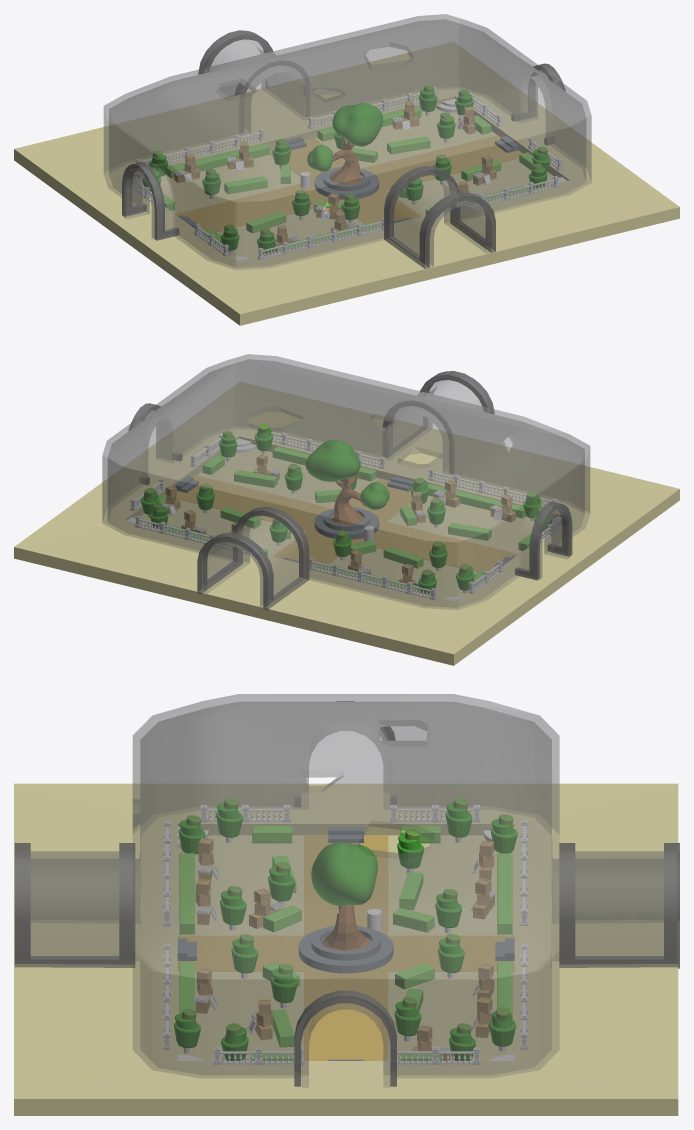
The model's file is Map Draft buat demo again.fbx.
3 views of the same model, one above another, from view 1: azimuth 30°, elevation 25°; view 2: azimuth 150°, elevation 25°; view 3: azimuth 270°, elevation 25° (orthographic). The views are drawn at different scales.
Parts seen in each view (by area): view 1: Cube.052, Plane.012, Plane, Cube.055, Cube.054, Cube.056, Sphere.001, Cylinder, Plane.011, Cube.057, Cube.004, Sphere (+4 smaller); view 2: Cube.052, Plane.012, Plane, Cube.054, Cube.055, Sphere.001, Cube.056, Cylinder, Cube.004, Plane.023, Plane.025, Sphere (+4 smaller); view 3: Cube.052, Plane.012, Plane, Cube.055, Cube.054, Sphere.001, Cylinder, Cube.057, Plane.011, Plane.023, Cube.004, Plane.046 (+11 smaller).
Boxes of the visible parts, x1,y1,x2,y2 form: Cube.052: (103,14,591,269); Plane.012: (14,42,679,325); Plane: (175,135,522,233); Cube.055: (384,166,495,268); Cube.054: (198,30,309,133); Cube.056: (122,162,179,240); Sphere.001: (332,103,383,146); Cylinder: (314,167,379,199); Plane.011: (166,143,269,178); Cube.057: (511,63,565,145); Cube.004: (330,136,362,184); Sphere: (307,145,333,171); Cube.052: (102,354,590,609); Plane.012: (14,382,679,665); Plane: (176,475,518,573); Cube.054: (197,506,309,610); Cube.055: (382,371,494,473); Sphere.001: (305,440,360,481); Cube.056: (515,502,572,580); Cylinder: (314,507,379,539); Cube.004: (331,472,364,524); Plane.023: (427,483,525,518); Plane.025: (272,446,376,481); Sphere: (360,482,389,509); Cube.052: (30,694,663,1087); Plane.012: (14,783,678,1115); Plane: (177,835,514,1060); Cube.055: (14,843,135,967); Cube.054: (559,843,679,968); Sphere.001: (311,841,377,905); Cylinder: (298,925,393,973); Cube.057: (294,990,396,1086); Plane.011: (497,853,512,934); Plane.023: (179,853,194,934); Cube.004: (321,905,370,950); Plane.046: (213,1047,294,1064).
Bounding box in the file's own units: 9575 × 2291 × 8548.
